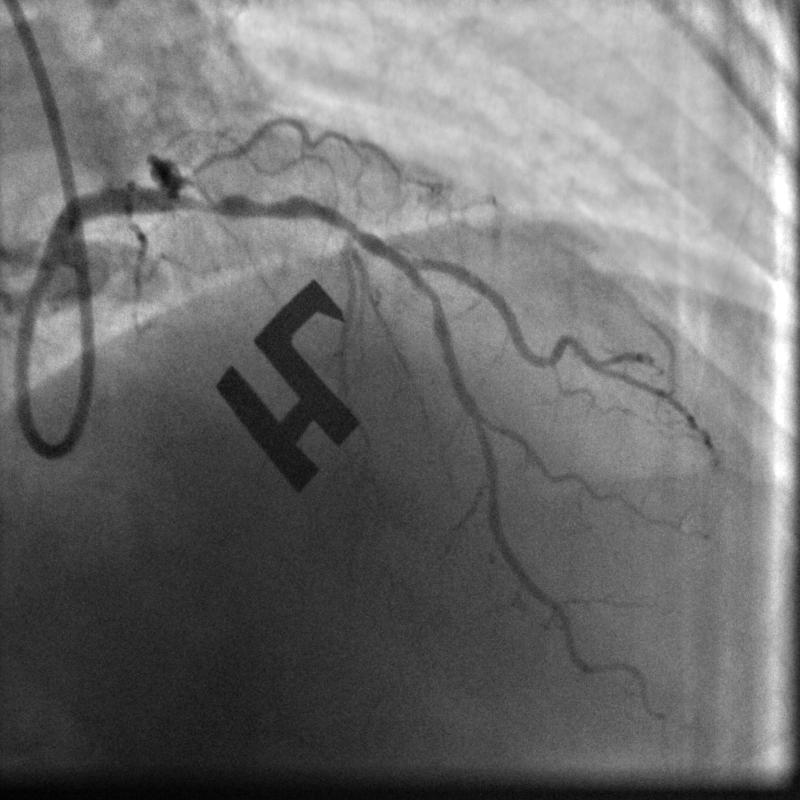Stenosis: (190, 187, 311, 217)
